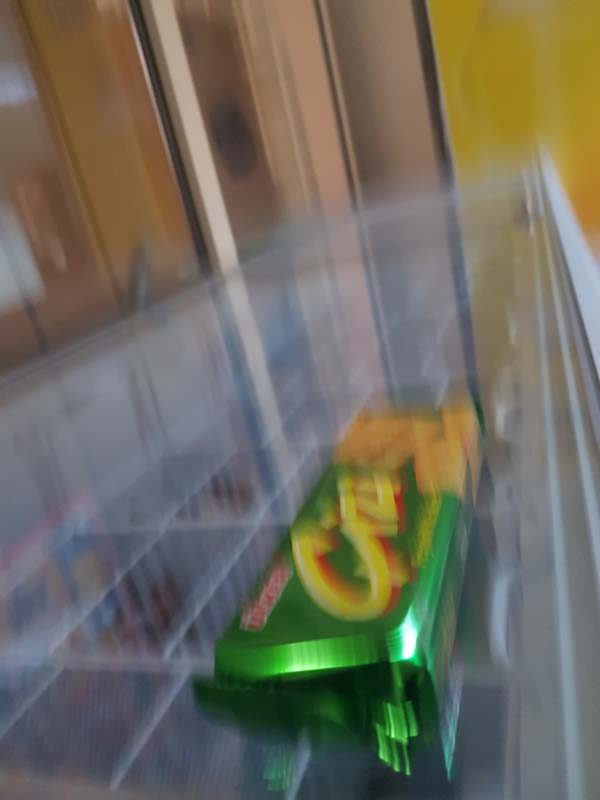cizi: (202, 372, 492, 778)
